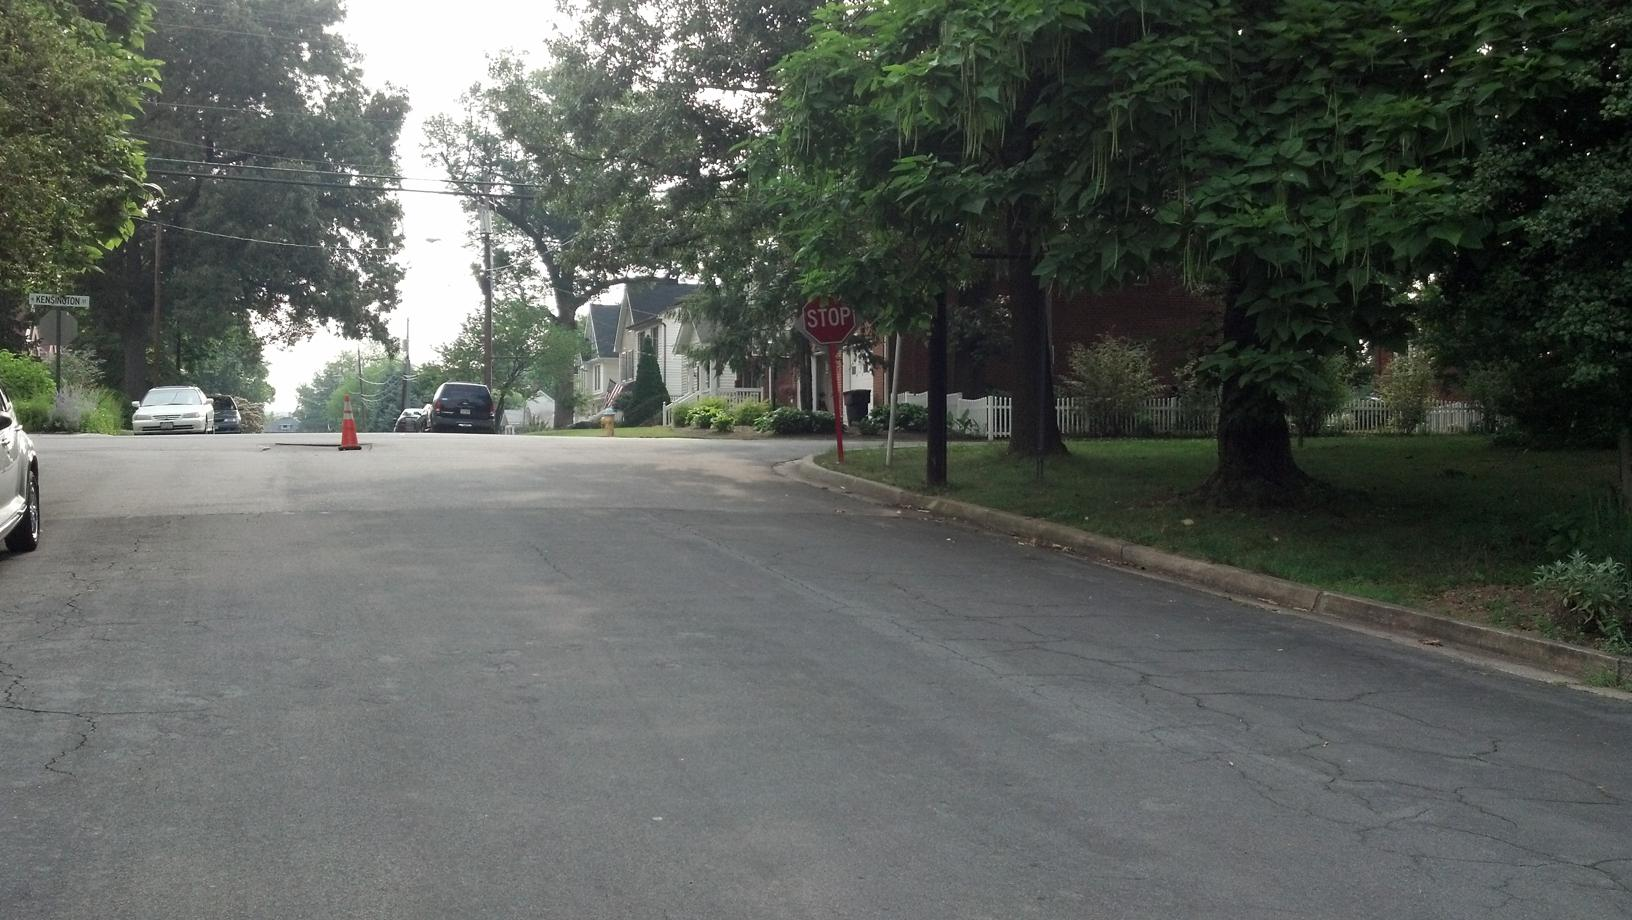car: (129, 379, 208, 438), (428, 377, 498, 427)
stop: (799, 290, 873, 344)
